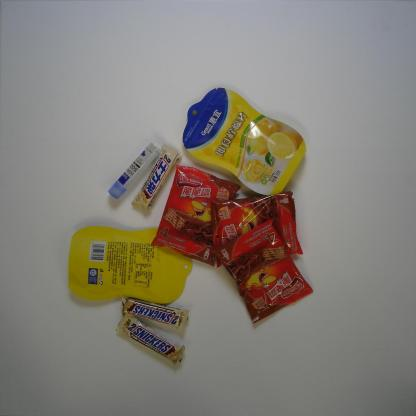Chocolate: (115, 312, 186, 366), (131, 142, 184, 212), (120, 296, 190, 332)
Dessert: (212, 217, 314, 325), (150, 164, 242, 268), (210, 190, 305, 268)
Dried Fruit: (181, 87, 307, 196), (66, 224, 194, 306)
Stationery: (108, 143, 162, 201)
